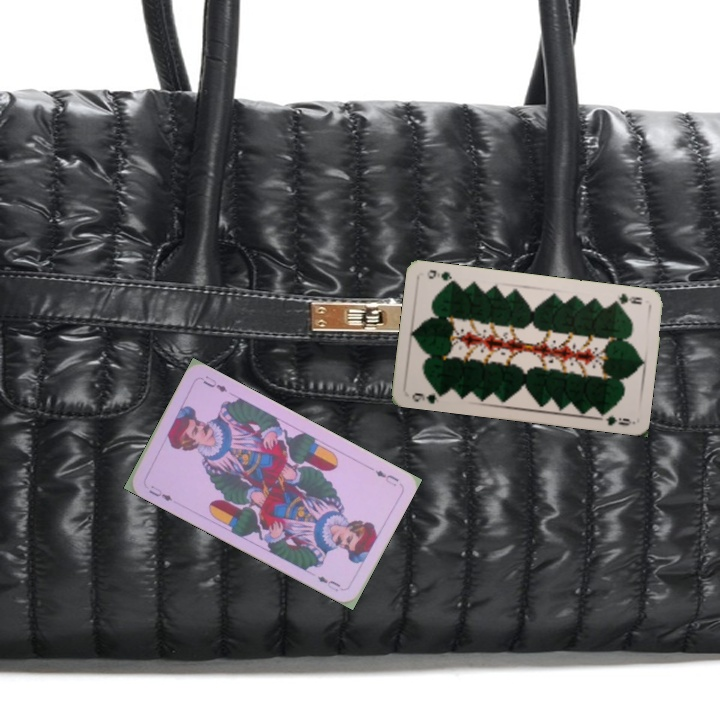EU: (145, 481, 175, 504), (371, 466, 401, 489)
G9: (408, 387, 447, 406), (607, 289, 644, 307)
